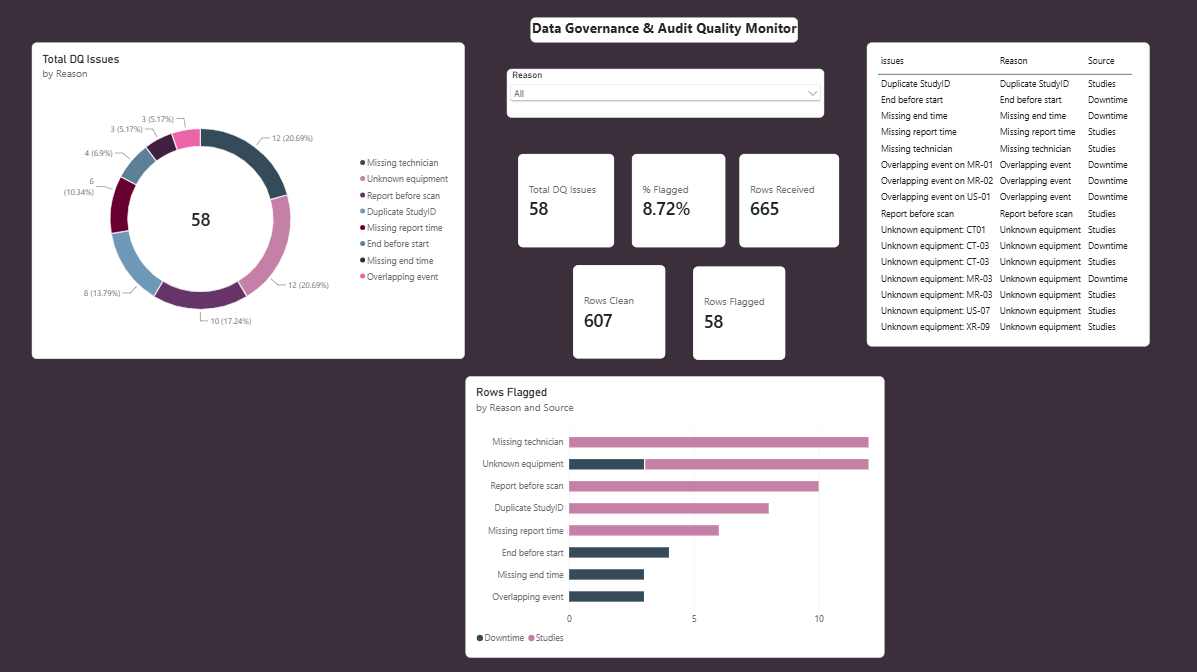

Layout of this report page (visuals, bound fields, positions):
{"tool":"powerbi","page":{"name":"Data Quality","canvas":[1920,1080],"ordinal":2},"visuals":[{"type":"textbox","box":[852,28,428.3,40],"z":0},{"type":"slicer","fields":{"Values":["DQ_Log.Reason"]},"box":[814,110,508,78],"z":2000},{"type":"cardVisual","fields":{"Data":["DQ_Log.Total DQ Issues"]},"box":[832,246,154,150],"z":3000},{"type":"donutChart","fields":{"Category":["DQ_Log.Reason"],"Y":["DQ_Log.Total DQ Issues"]},"box":[54,68,693.1,506.7],"z":5000},{"type":"tableEx","fields":{"Values":["DQ_Log.issues","DQ_Log.Reason","DQ_Log.Source"]},"box":[1390,68,452.4,486.8],"z":5001},{"type":"cardVisual","fields":{"Data":["DQ_Log.Rows Received"]},"box":[1186,246,160,150],"z":5002},{"type":"cardVisual","fields":{"Data":["DQ_Log.Rows Clean"]},"box":[920,424,148,150],"z":5003},{"type":"cardVisual","fields":{"Data":["DQ_Log.Rows Flagged"]},"box":[1112,426,148,150],"z":5004},{"type":"cardVisual","fields":{"Data":["DQ_Log.% Flagged"]},"box":[1014,246,150,150],"z":5005},{"type":"barChart","fields":{"Category":["DQ_Log.Reason"],"Series":["DQ_Log.Source"],"Y":["DQ_Log.Rows Flagged"]},"box":[748,602,670,450],"z":5006}]}

Visuals, with their boxes in screenshot pixels (x1, y1, x2, y2), scaled from the page's 1920x1080 canvas onto the 1197x672 screenshot:
textbox: crop(531, 17, 798, 42)
slicer - DQ_Log.Reason: crop(507, 68, 824, 117)
cardVisual - DQ_Log.Total DQ Issues: crop(519, 153, 615, 246)
donutChart - DQ_Log.Reason x DQ_Log.Total DQ Issues: crop(34, 42, 466, 358)
tableEx - DQ_Log.issues x DQ_Log.Reason: crop(867, 42, 1149, 345)
cardVisual - DQ_Log.Rows Received: crop(739, 153, 839, 246)
cardVisual - DQ_Log.Rows Clean: crop(574, 264, 666, 357)
cardVisual - DQ_Log.Rows Flagged: crop(693, 265, 786, 358)
cardVisual - DQ_Log.% Flagged: crop(632, 153, 726, 246)
barChart - DQ_Log.Reason x DQ_Log.Source: crop(466, 375, 884, 655)
